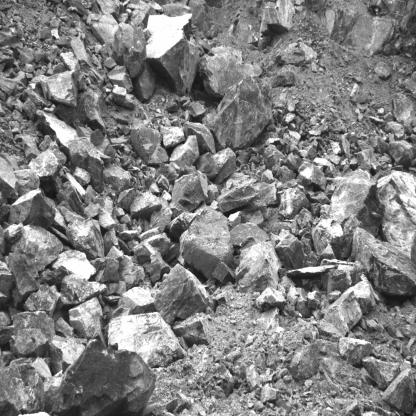stone: (113, 13, 200, 96), (62, 341, 155, 416), (203, 77, 273, 151), (108, 311, 188, 368), (1, 224, 64, 296), (352, 228, 415, 295), (179, 206, 234, 277), (376, 171, 416, 268), (330, 168, 385, 237), (153, 265, 213, 324), (199, 46, 263, 99), (0, 359, 44, 416), (60, 202, 104, 259), (1, 187, 57, 229), (318, 291, 363, 343), (36, 110, 78, 159), (67, 295, 108, 345), (70, 138, 109, 189), (168, 169, 208, 217), (57, 274, 106, 310), (38, 69, 79, 109), (28, 141, 67, 181), (382, 366, 414, 414), (195, 148, 236, 184), (362, 356, 401, 392), (311, 218, 343, 260), (229, 223, 270, 255), (216, 182, 258, 213), (288, 341, 320, 380), (173, 315, 213, 346), (24, 283, 59, 318), (275, 235, 309, 271), (259, 0, 295, 34), (134, 234, 177, 262), (9, 328, 48, 358), (117, 286, 156, 315), (130, 125, 159, 164), (86, 13, 119, 47), (278, 187, 311, 219), (169, 135, 199, 169), (337, 337, 373, 365), (130, 193, 165, 221), (255, 284, 286, 314), (89, 129, 118, 161), (298, 160, 327, 191), (347, 280, 374, 312), (67, 35, 93, 68), (392, 93, 416, 126), (390, 139, 416, 168), (145, 252, 169, 283), (104, 165, 131, 192), (107, 66, 133, 94), (136, 64, 155, 100), (150, 206, 173, 234), (93, 259, 121, 281), (212, 261, 235, 286), (161, 125, 186, 147), (112, 86, 134, 108), (122, 266, 145, 287), (245, 364, 262, 391), (60, 50, 81, 71), (23, 134, 39, 161), (349, 84, 370, 102), (187, 99, 206, 118), (260, 384, 279, 403), (384, 121, 404, 138), (18, 45, 34, 65), (355, 150, 371, 169), (374, 61, 391, 78), (44, 45, 60, 63), (307, 290, 321, 308), (285, 152, 298, 170), (341, 132, 350, 157), (283, 111, 296, 126), (328, 289, 341, 304), (37, 28, 53, 40), (261, 169, 274, 183), (324, 165, 337, 178), (104, 56, 117, 68), (55, 35, 68, 46), (330, 153, 341, 165)
